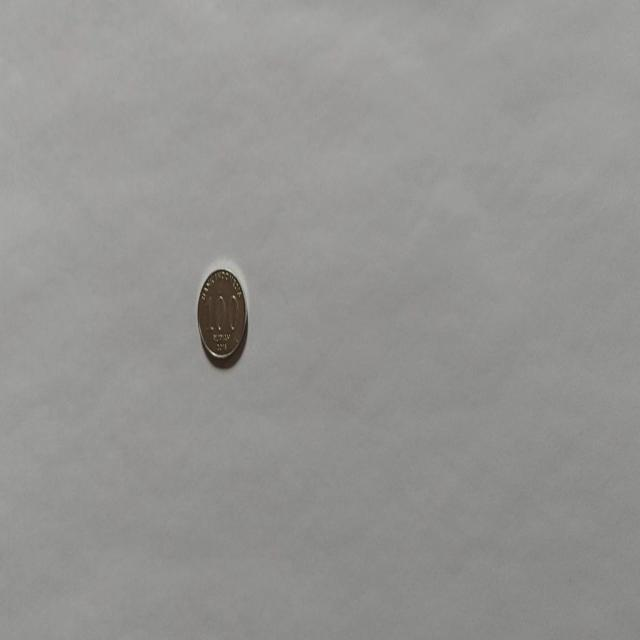seratus rupiah: (196, 266, 248, 366)
